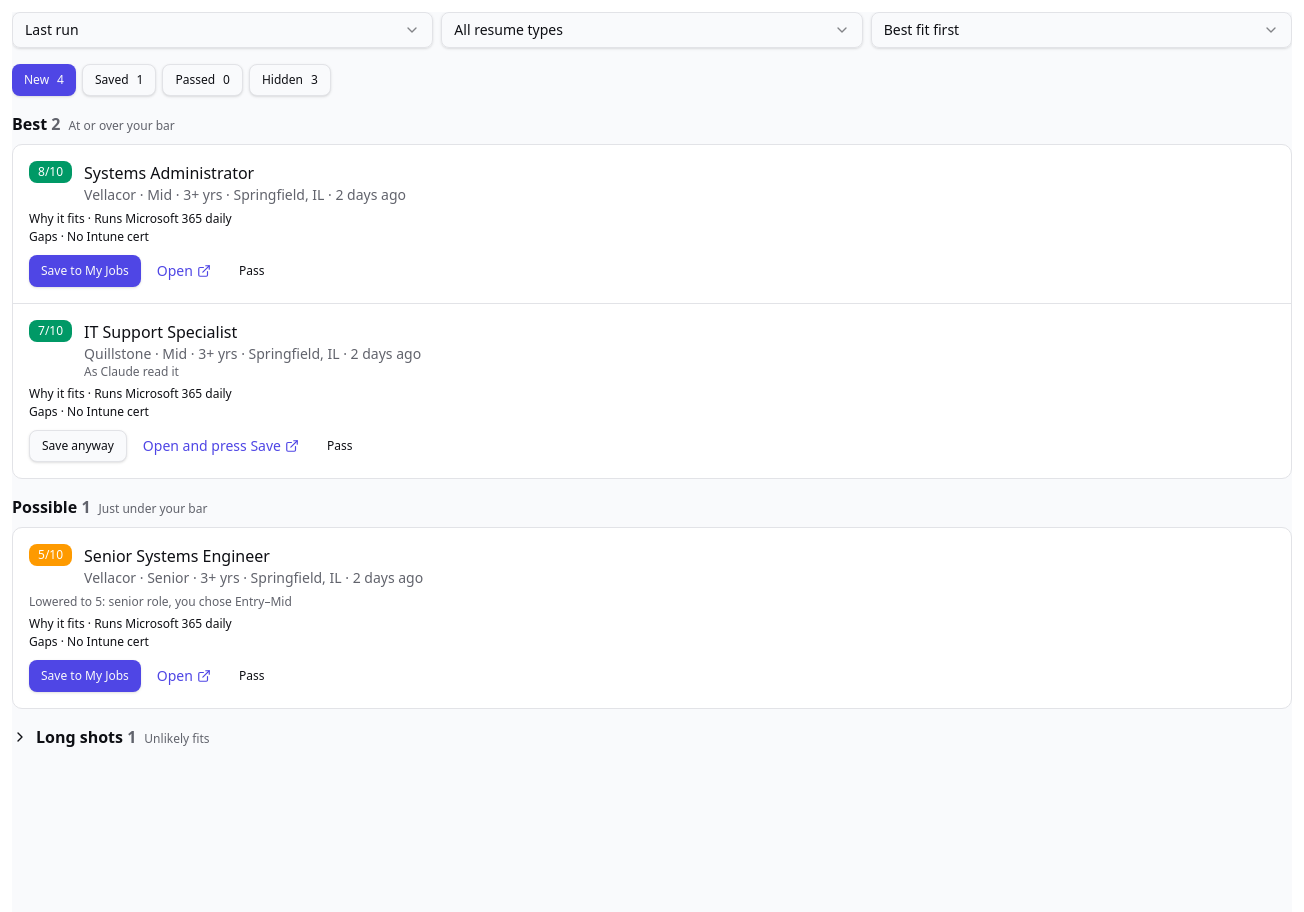
Test: Scout Results › groups every job Best / Possible / Long shots, long shots folded
Expected: the heading "Best 2" is shown, [12,112,60,136]
Expected: the heading "Possible 1" is shown, [12,495,90,519]
Click the button "Long shots 1 Unlikely fits".
click(80, 737)  # box [12,725,1292,749]
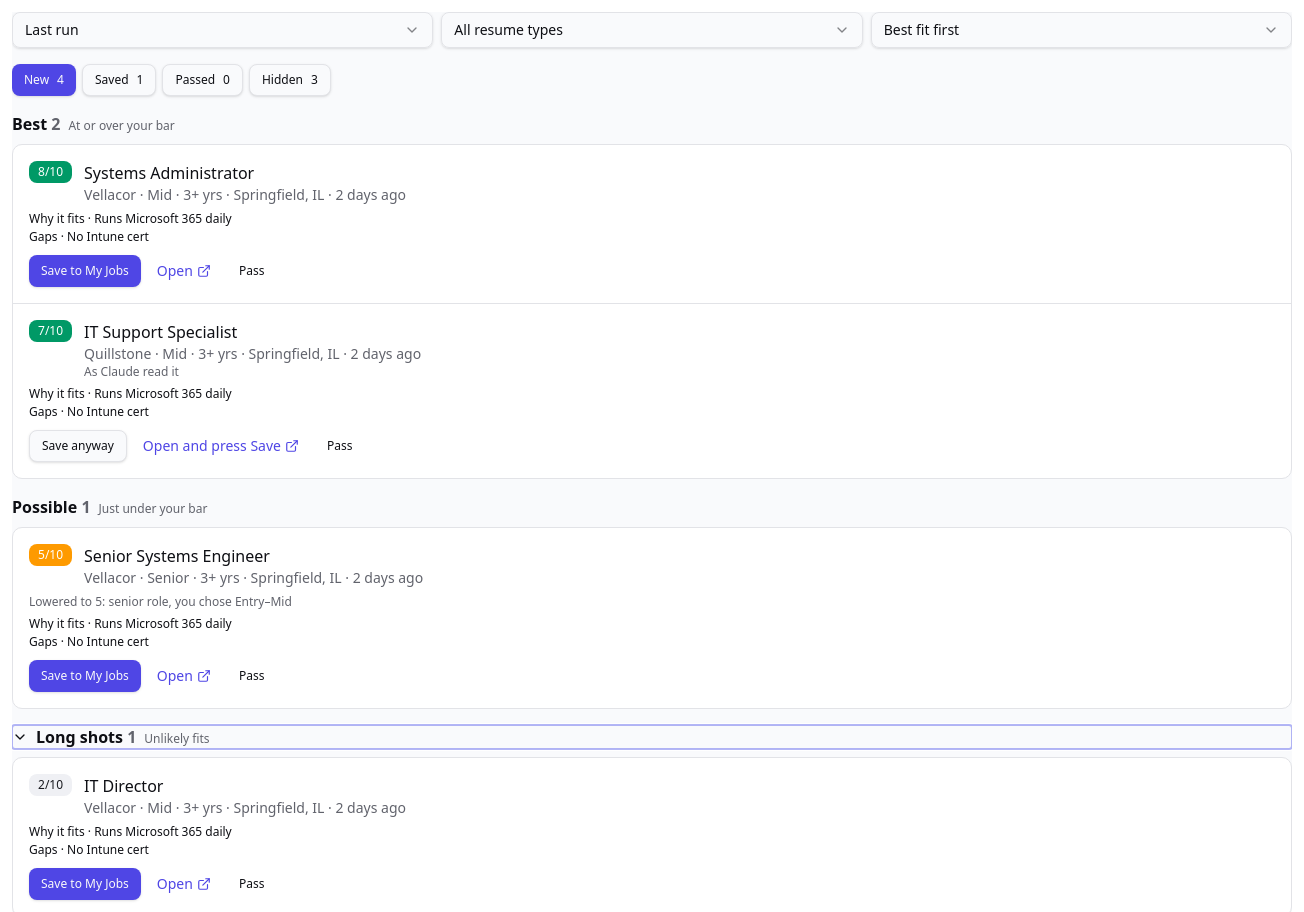
Expected: the text "IT Director" is shown, [84,775,164,797]
